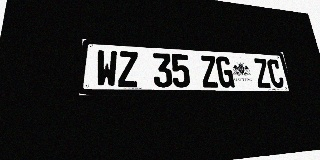3: (153, 53, 173, 87)
5: (171, 54, 191, 87)
C: (266, 59, 285, 88)
G: (215, 56, 235, 88)
W: (96, 50, 117, 87)
Z: (118, 51, 139, 87), (199, 55, 219, 88), (253, 58, 272, 88)
